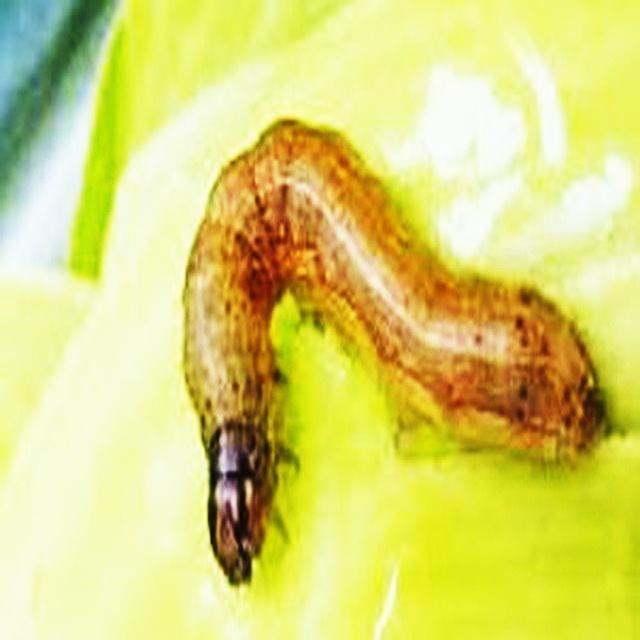gusano_cogollero: (176, 116, 604, 589)
